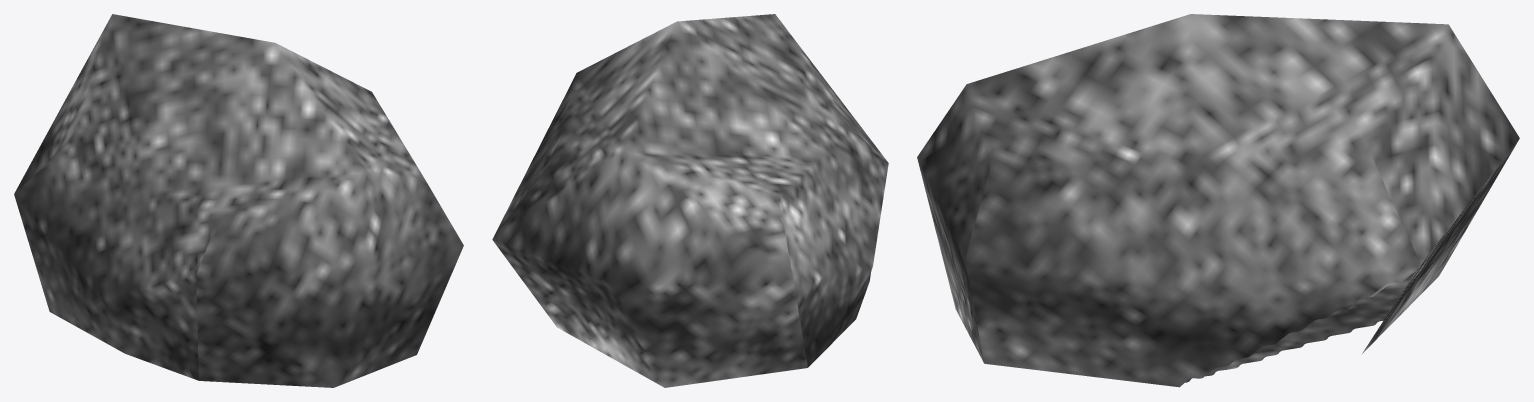
The model's file is stein3.fbx.
The picture shows the model from 3 angles, left to right: view 1: azimuth 30°, elevation 25°; view 2: azimuth 150°, elevation 25°; view 3: azimuth 270°, elevation 25°; orthographic projection. The views are drawn at different scales.
Visible parts, largest first — view 1: stein_c; view 2: stein_c; view 3: stein_c.
Boxes of the visible parts, left/top/right/bottom form: stein_c: left=14, top=14, right=463, bottom=387; stein_c: left=492, top=14, right=888, bottom=387; stein_c: left=917, top=14, right=1519, bottom=387.
Size of the model in its own units: 26.39 by 21.05 by 36.09.
Materials: 1 (1 with a texture image).
